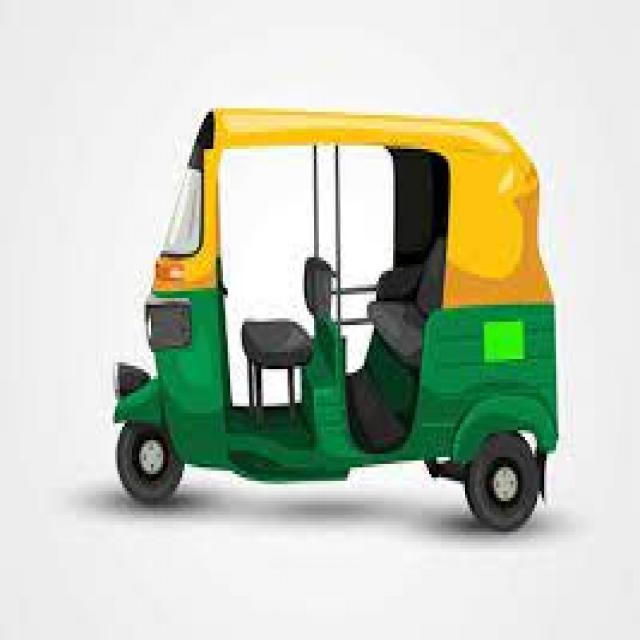Auto: (80, 110, 578, 526)
